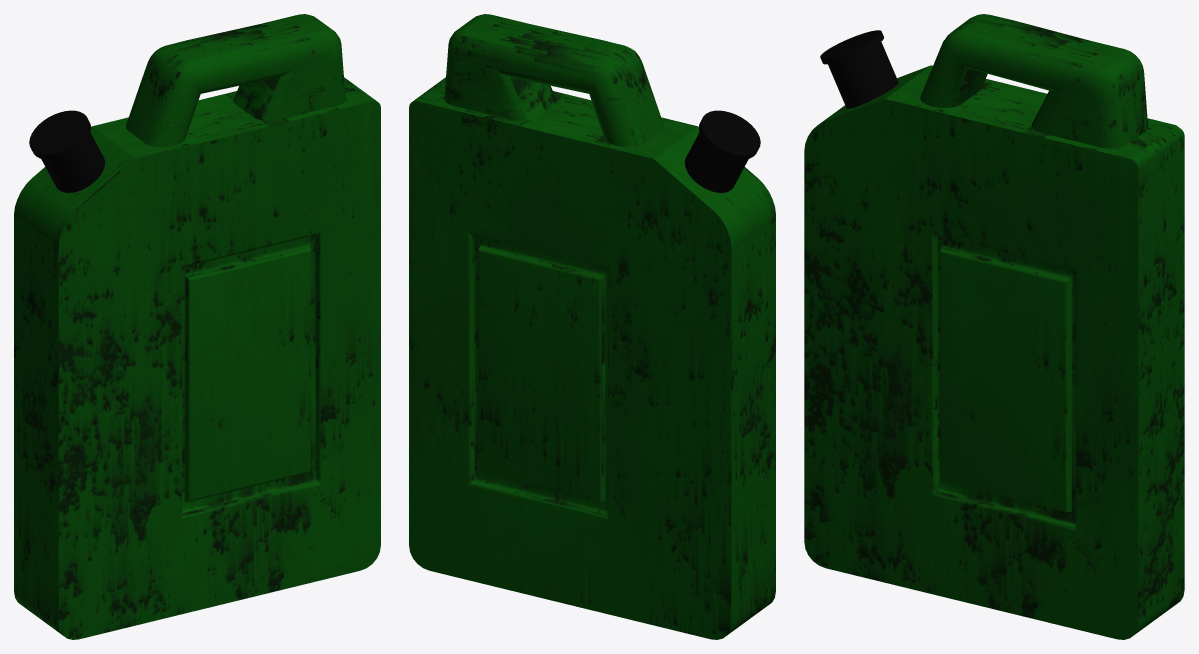
File: jerrycan.fbx
3 renders of one model, left to right at view 1: azimuth 30°, elevation 25°; view 2: azimuth 150°, elevation 25°; view 3: azimuth 330°, elevation 25°, orthographic. The views are drawn at different scales.
Parts seen in each view (by area): view 1: Cube; view 2: Cube; view 3: Cube.
Part boxes in pixels (bbox=[...]): Cube: bbox=[14, 14, 380, 639]; Cube: bbox=[409, 14, 775, 639]; Cube: bbox=[804, 14, 1184, 639].
Size of the model in its own units: 155 by 247 by 36.82.
